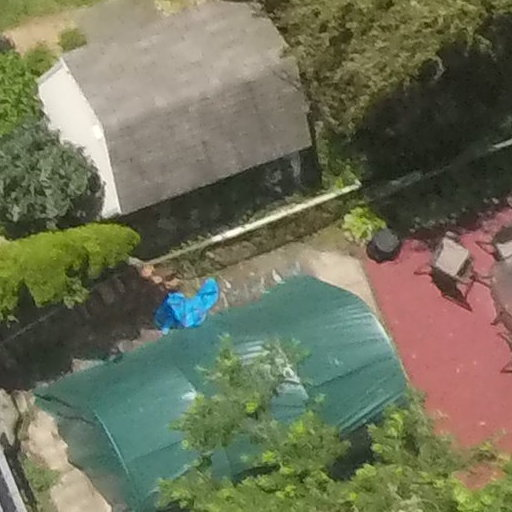tarp: (148, 277, 219, 339)
